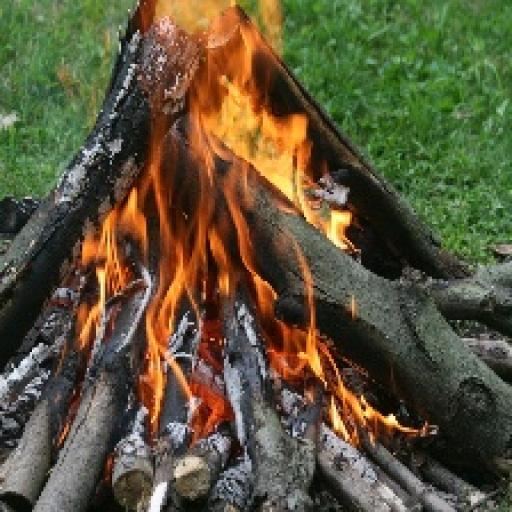fire and smoke: (78, 0, 416, 437)
